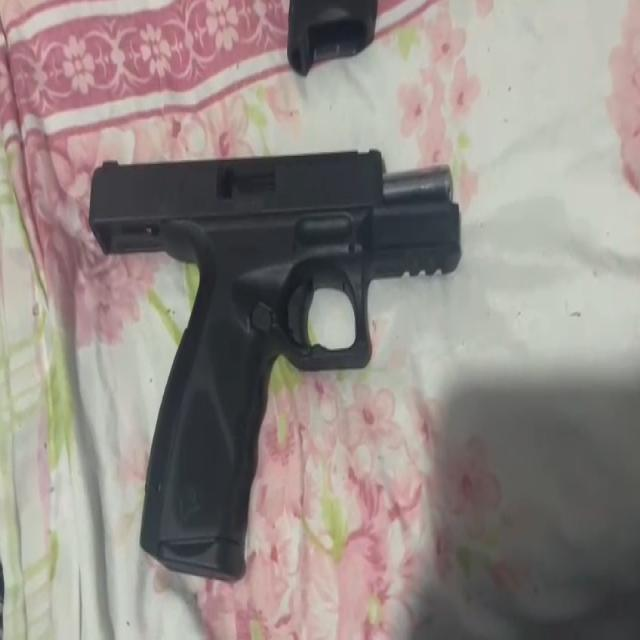guns: (88, 145, 465, 583)
